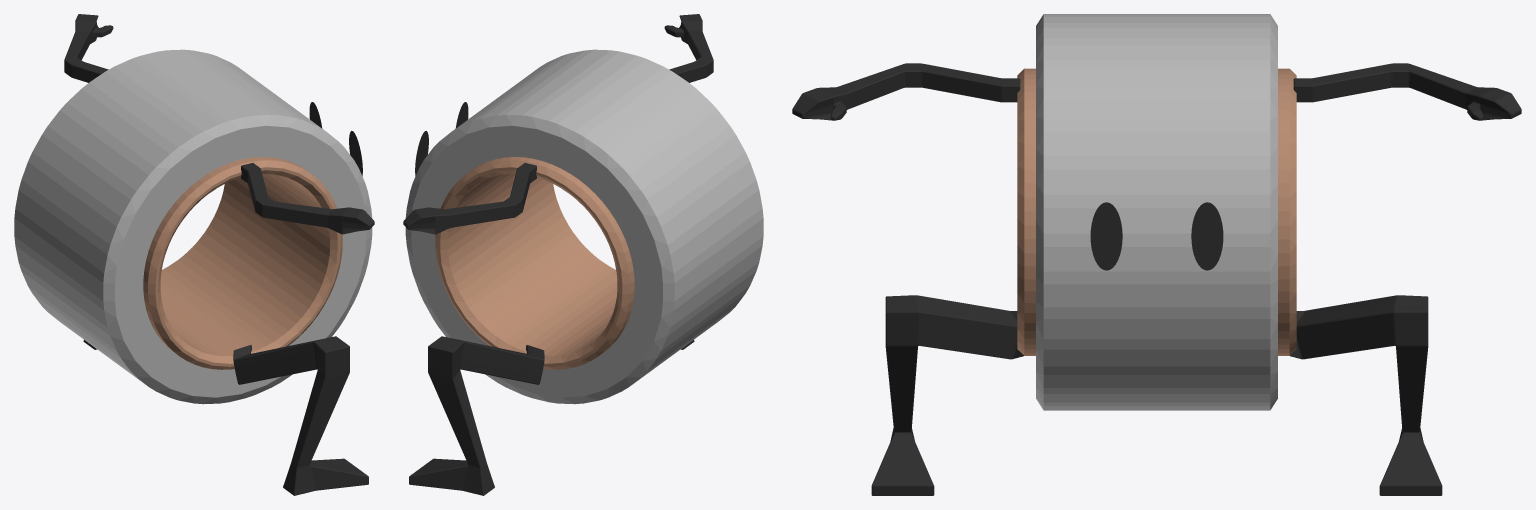
Rendered from DuctMan.fbx.
The picture shows the model from 3 angles, left to right: view 1: azimuth 30°, elevation 25°; view 2: azimuth 150°, elevation 25°; view 3: azimuth 270°, elevation 25°; orthographic projection. The views are drawn at different scales.
Parts seen in each view (by area): view 1: Cylinder, Cylinder.001, Cube.002, Cube, Cube.003, Circle; view 2: Cylinder, Cylinder.001, Cube.001, Cube.003, Cube, Circle; view 3: Cylinder, Cube.001, Cube.002, Cylinder.001, Cube, Cube.003, Circle.
Part boxes in pixels (bbox=[...]): Cylinder: bbox=[14, 49, 372, 404]; Cylinder.001: bbox=[143, 157, 342, 369]; Cube.002: bbox=[233, 336, 368, 495]; Cube: bbox=[241, 163, 374, 234]; Cube.003: bbox=[64, 14, 113, 82]; Circle: bbox=[309, 102, 362, 176]; Cylinder: bbox=[405, 49, 763, 404]; Cylinder.001: bbox=[435, 157, 634, 369]; Cube.001: bbox=[409, 336, 544, 495]; Cube.003: bbox=[403, 163, 536, 234]; Cube: bbox=[664, 14, 713, 82]; Circle: bbox=[415, 102, 468, 176]; Cylinder: bbox=[1036, 14, 1277, 410]; Cube.001: bbox=[1290, 295, 1442, 495]; Cube.002: bbox=[871, 295, 1023, 495]; Cylinder.001: bbox=[1017, 68, 1296, 355]; Cube: bbox=[792, 63, 1020, 120]; Cube.003: bbox=[1293, 63, 1521, 120]; Circle: bbox=[1090, 202, 1223, 270].
Bounding box in the file's own units: 207 × 235 × 366.
